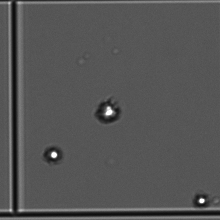Living Cell: (88, 95, 126, 125), (36, 141, 68, 168), (189, 190, 211, 209)
